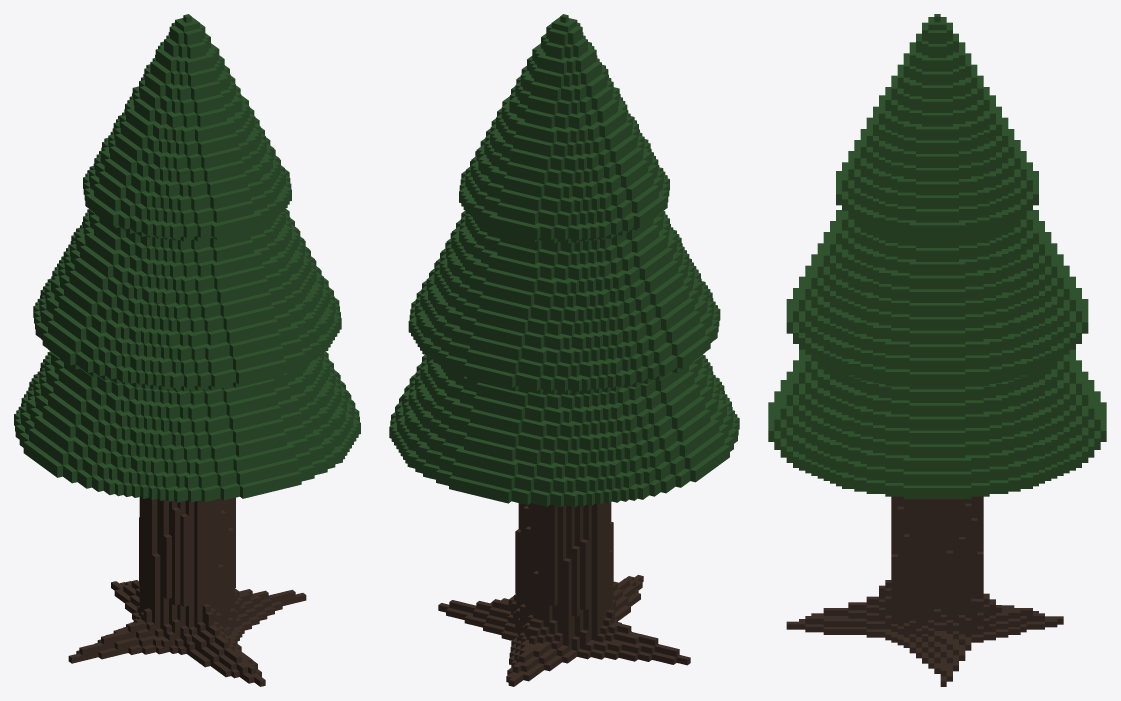
Rendered from Tree 3.obj.
3 renders of one model, left to right at view 1: azimuth 30°, elevation 25°; view 2: azimuth 150°, elevation 25°; view 3: azimuth 270°, elevation 25°, orthographic.
Size of the model in its own units: 5.5 by 11 by 5.5.
Materials: 1 (1 with a texture image).
